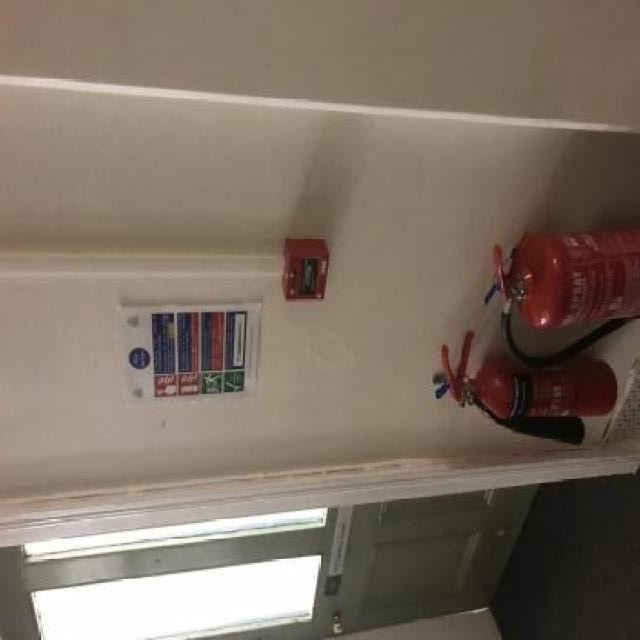fire extinguisher: (440, 331, 617, 440), (495, 228, 640, 352)
